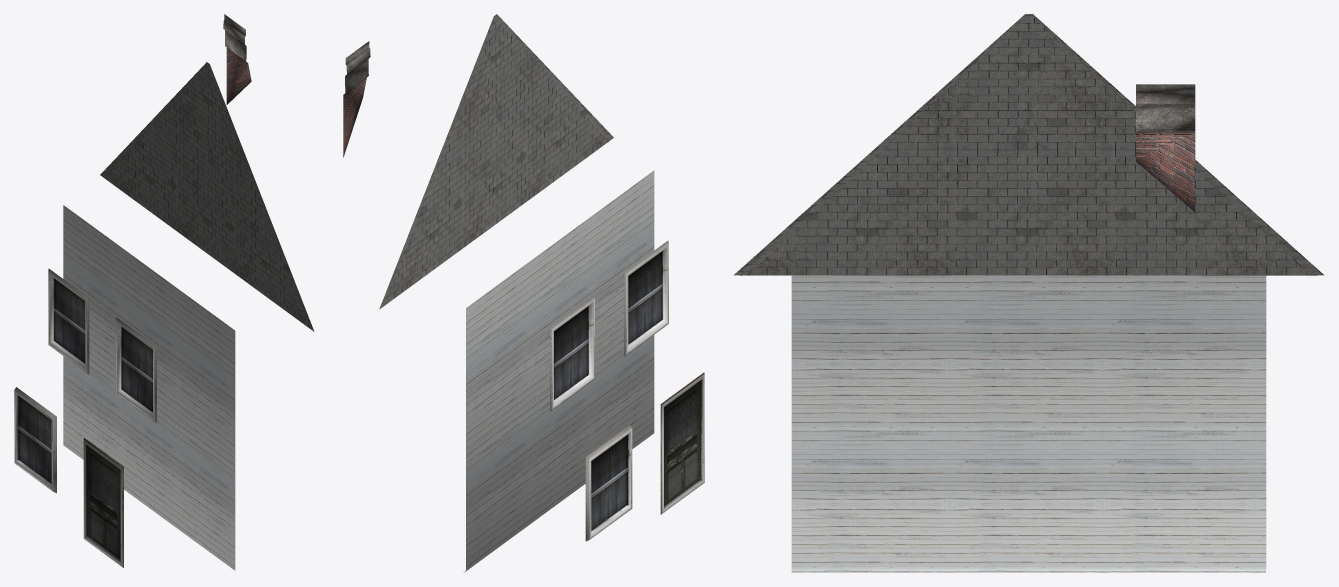
File: basicshapes-house.glb
The picture shows the model from 3 angles, left to right: view 1: azimuth 30°, elevation 25°; view 2: azimuth 150°, elevation 25°; view 3: azimuth 270°, elevation 25°; orthographic projection. The views are drawn at different scales.
Parts seen in each view (by area): view 1: 02 house_Farm_house_D_0.005; view 2: 02 house_Farm_house_D_0.005; view 3: 02 house_Farm_house_D_0.005.
Part boxes in pixels (x1,y1,x2,y2): 02 house_Farm_house_D_0.005: (14, 14, 314, 570); 02 house_Farm_house_D_0.005: (343, 14, 704, 572); 02 house_Farm_house_D_0.005: (734, 14, 1323, 572).
Bounding box in the file's own units: 51.96 × 96.81 × 86.93.
3 materials, 3 textured.
